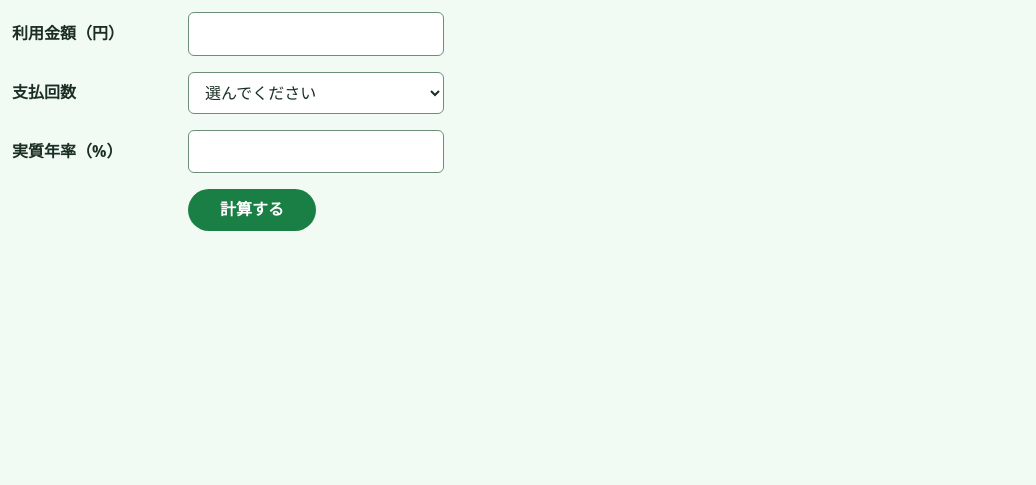
it: 入力して実行すると、APIの結果を3桁区切りで表示する
Type "100000" into the field labelled "利用金額（円）".
click(316, 34); type("100000")  # box [188,12,444,56]
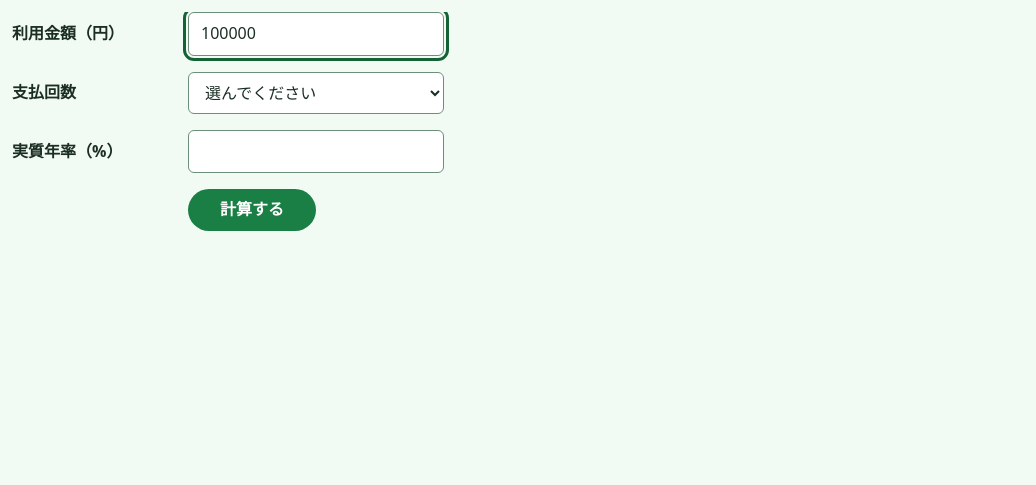
Select "12回" in the dropdown labelled "支払回数" at (316, 93), box [188,72,444,114]
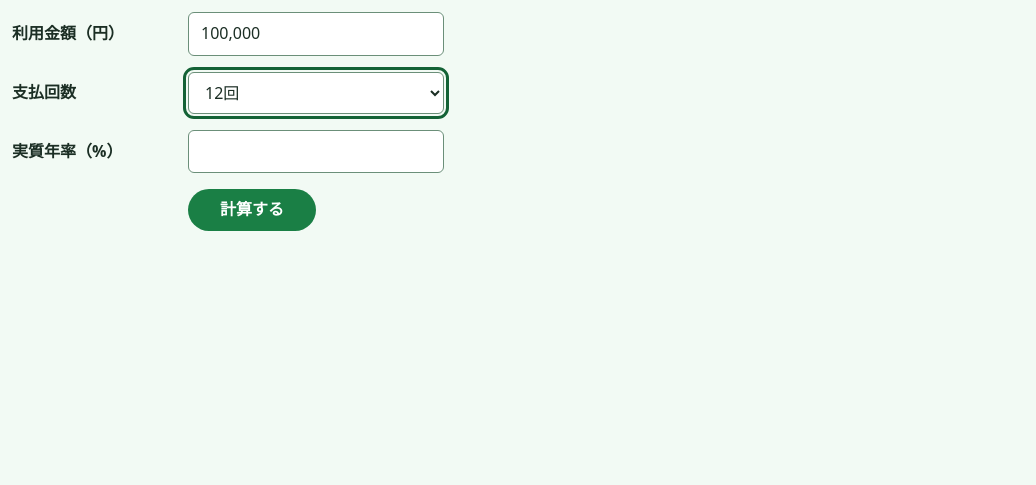
Type "15.0" into the field labelled "実質年率（%）".
click(316, 151); type("15.0")  # box [188,130,444,173]
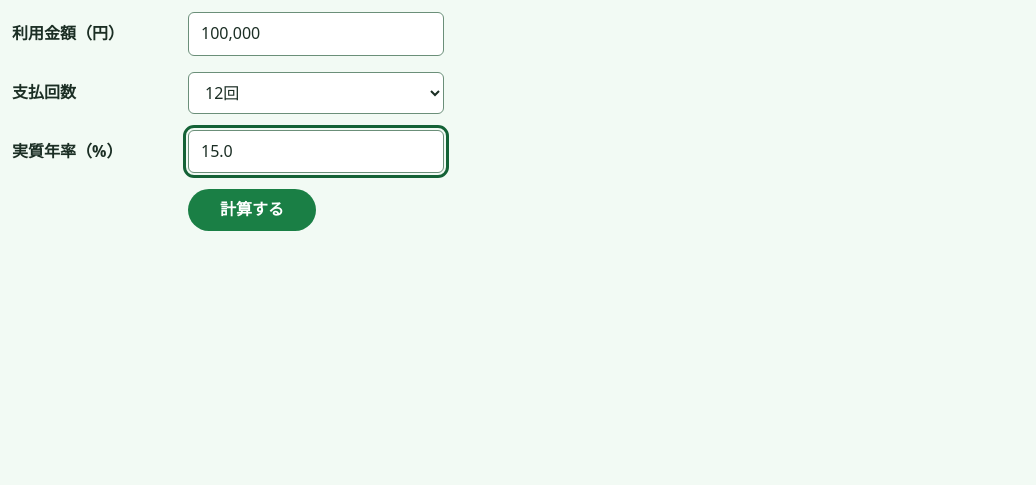
Click the button "計算する".
click(252, 210)  # box [188,189,316,231]
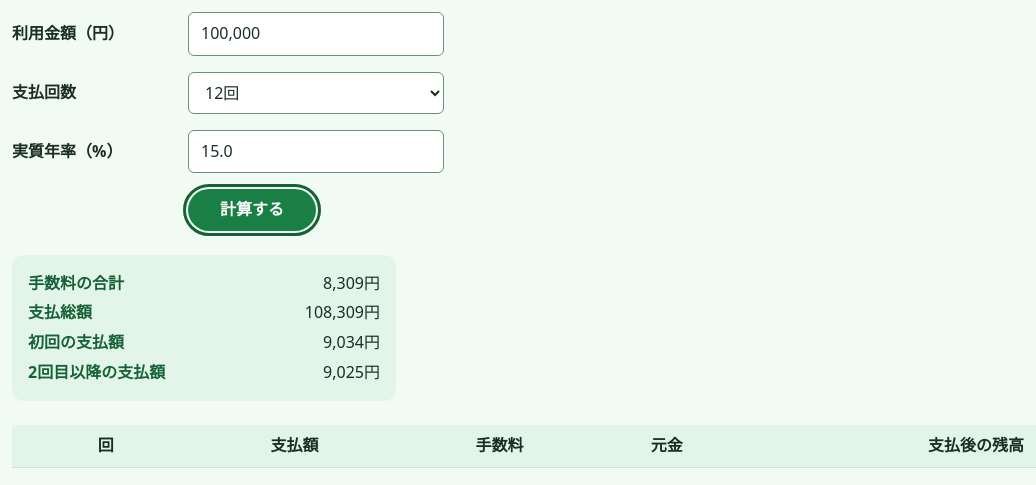
Expected: the text "8,309円" is shown, [323,271,380,296]
Expected: the text "108,309円" is shown, [305,300,380,326]
Expected: the text "9,034円" is shown, [323,330,380,356]
